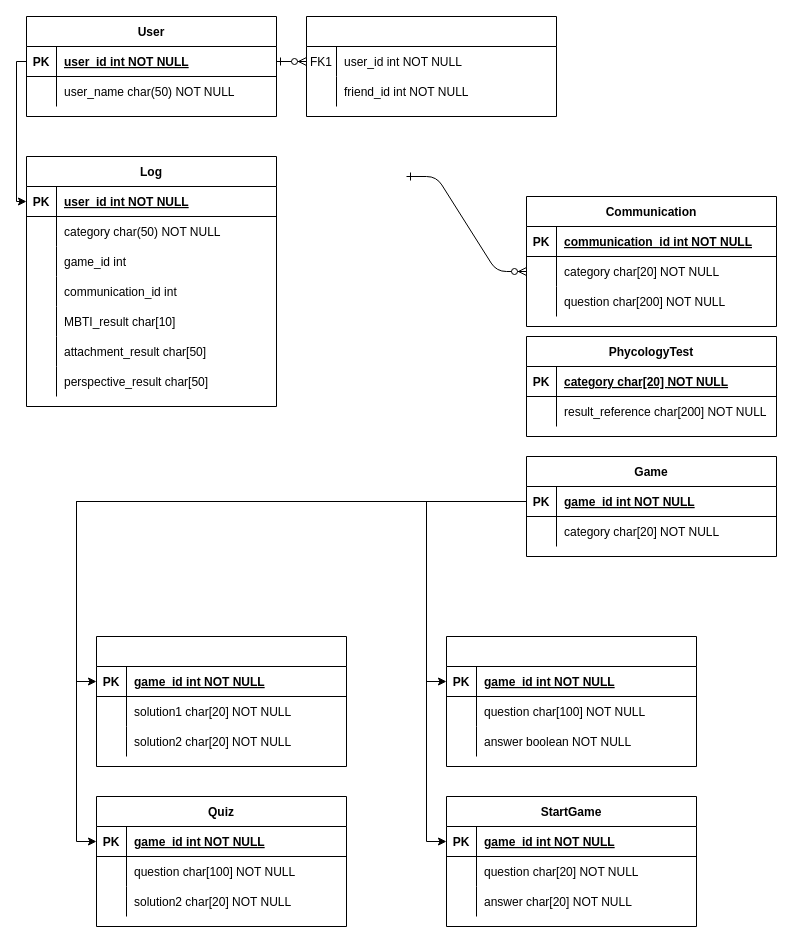
Image size: 793x943. Some labels were removed from this diagram. Each missing label, with the box of its shape:
BalanceGame: (96, 636, 346, 766)
Friends: (306, 16, 556, 116)
OXQuiz: (446, 636, 696, 766)
